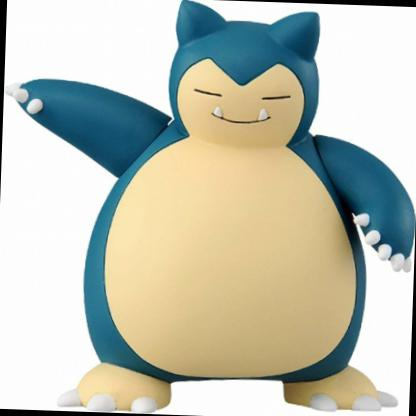Snorlax: (3, 1, 416, 377)
